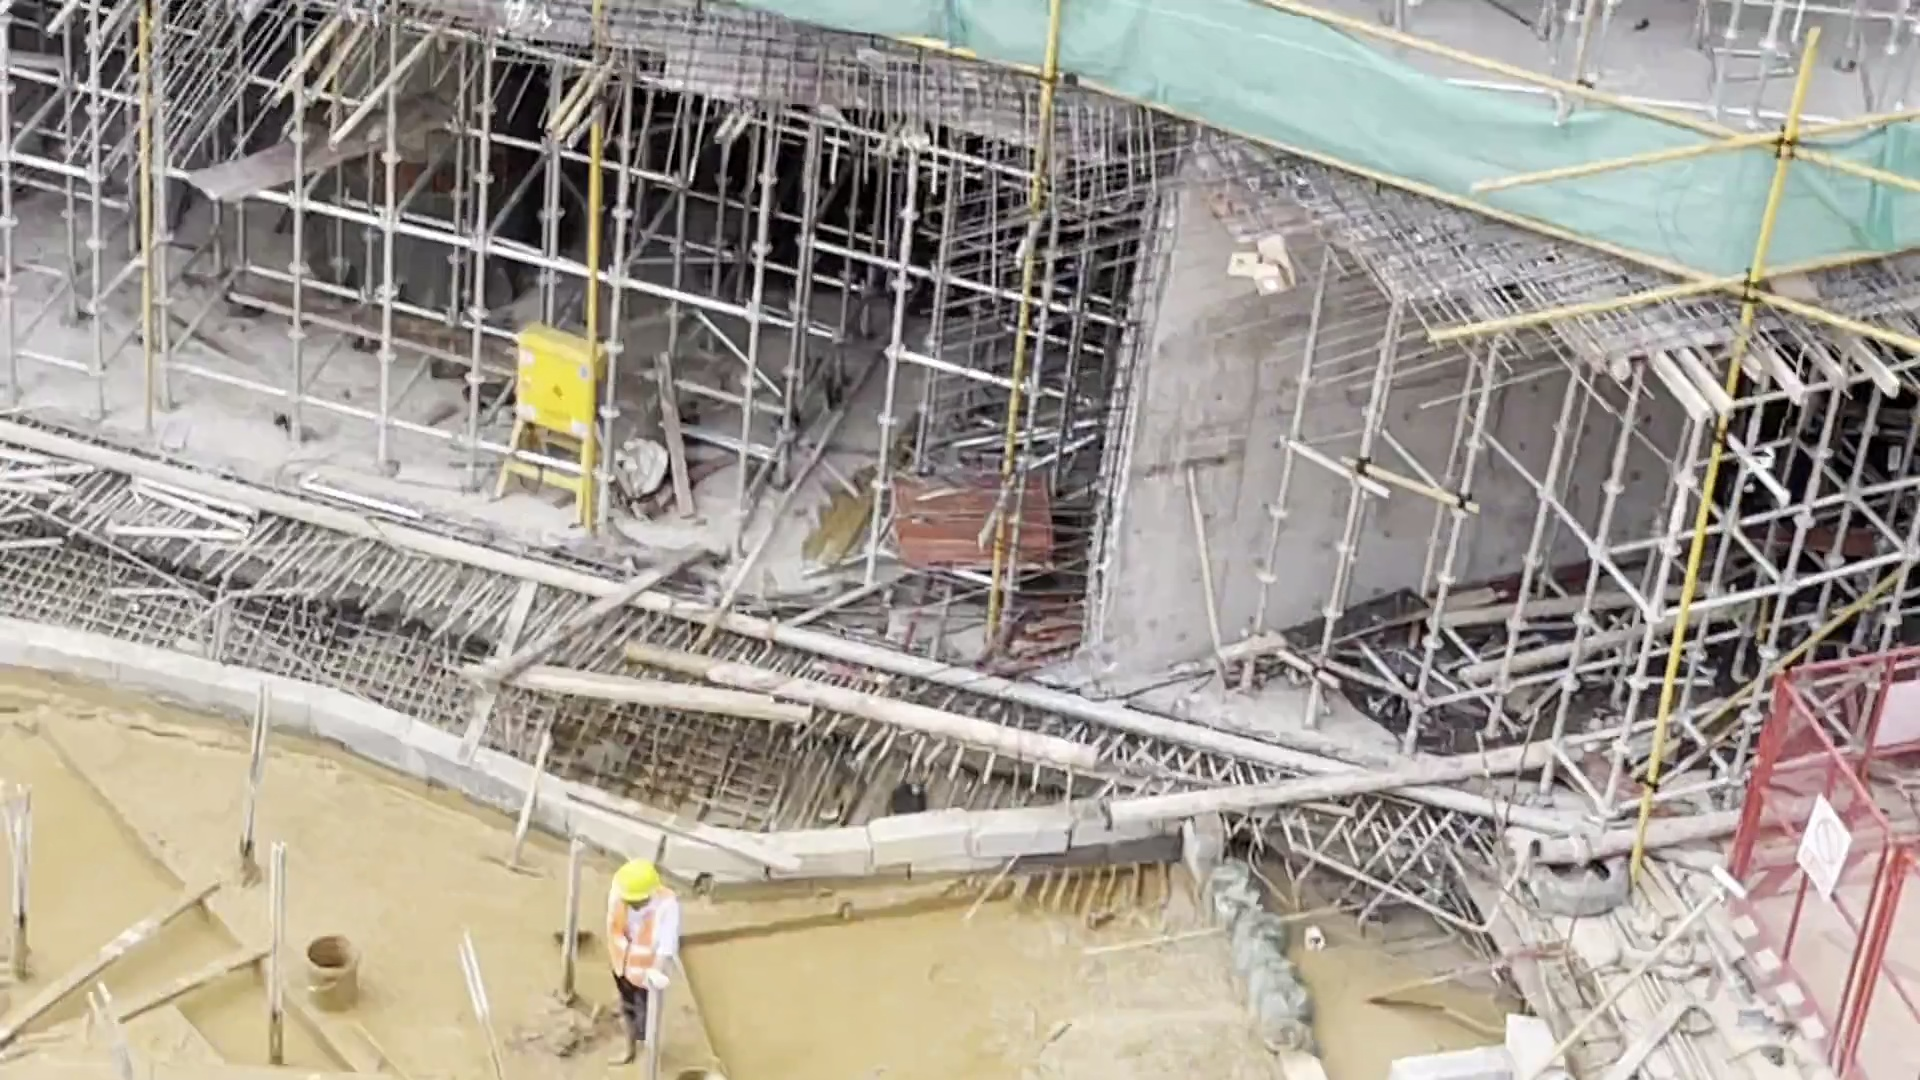helmet: (607, 856, 664, 904)
person: (602, 858, 679, 1068)
vest: (606, 900, 660, 990)
